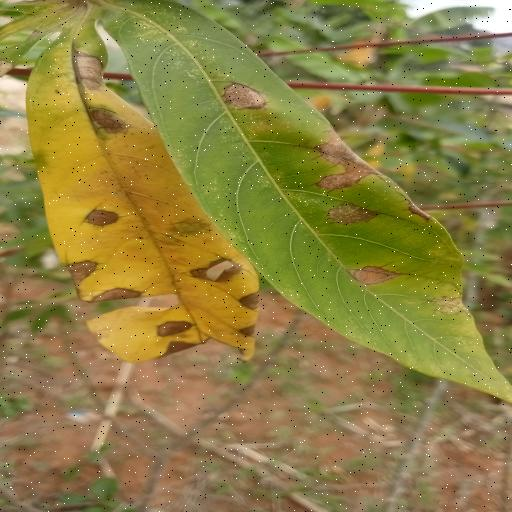Cassava_Bacterial_Disease: (7, 1, 512, 403)
